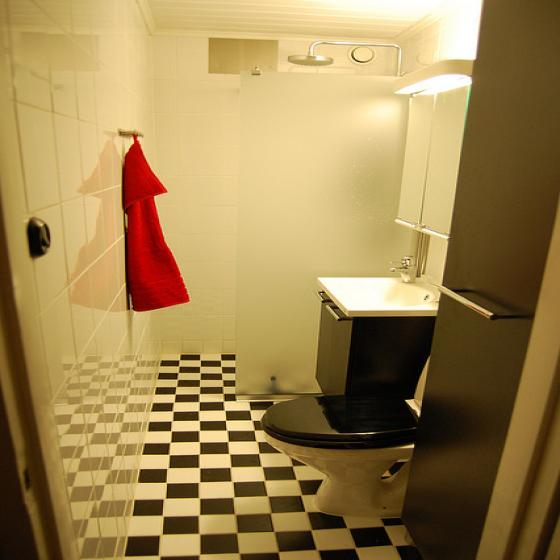sink: (312, 273, 439, 318)
toilet: (259, 393, 421, 522)
